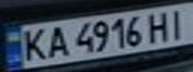1: (109, 15, 130, 49)
4: (72, 19, 93, 55)
6: (124, 12, 148, 47)
9: (90, 18, 112, 53)
A: (42, 22, 72, 58)
H: (142, 9, 175, 43)
I: (163, 6, 193, 39)
K: (18, 25, 51, 62)
